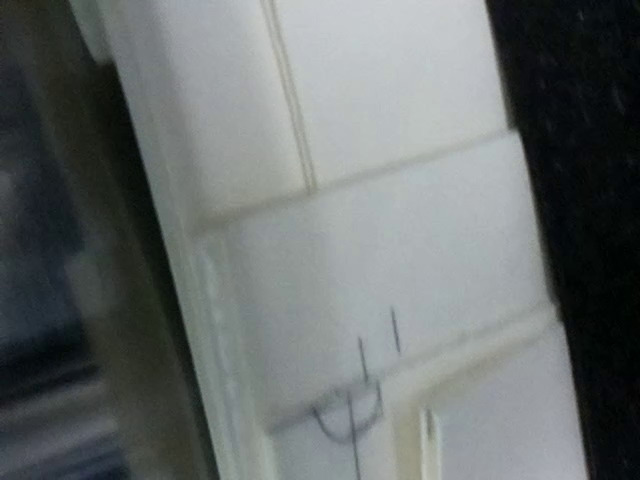not_sure: (268, 342, 408, 453)
